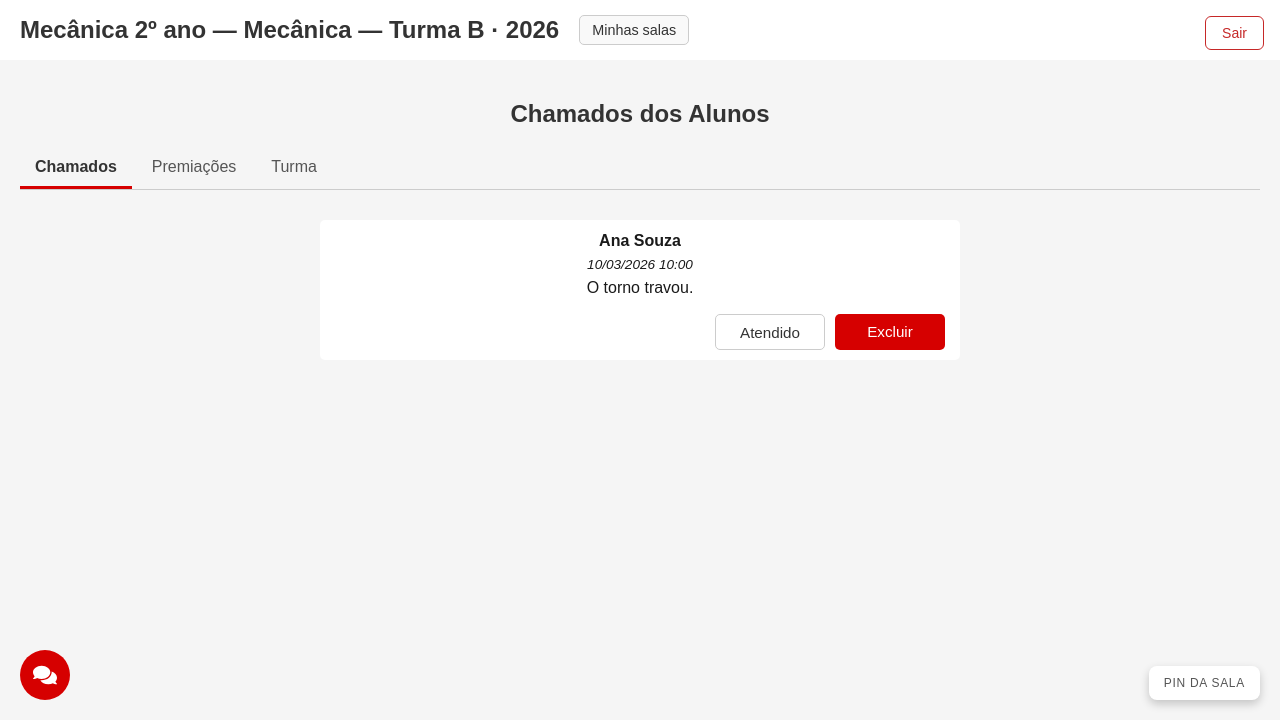
Test case: Sala — o painel da turma (AC-SALA-09) › não oferece remover o próprio professor da sala
Click the tab "Turma" at [294, 168], box [256,148,332,189]
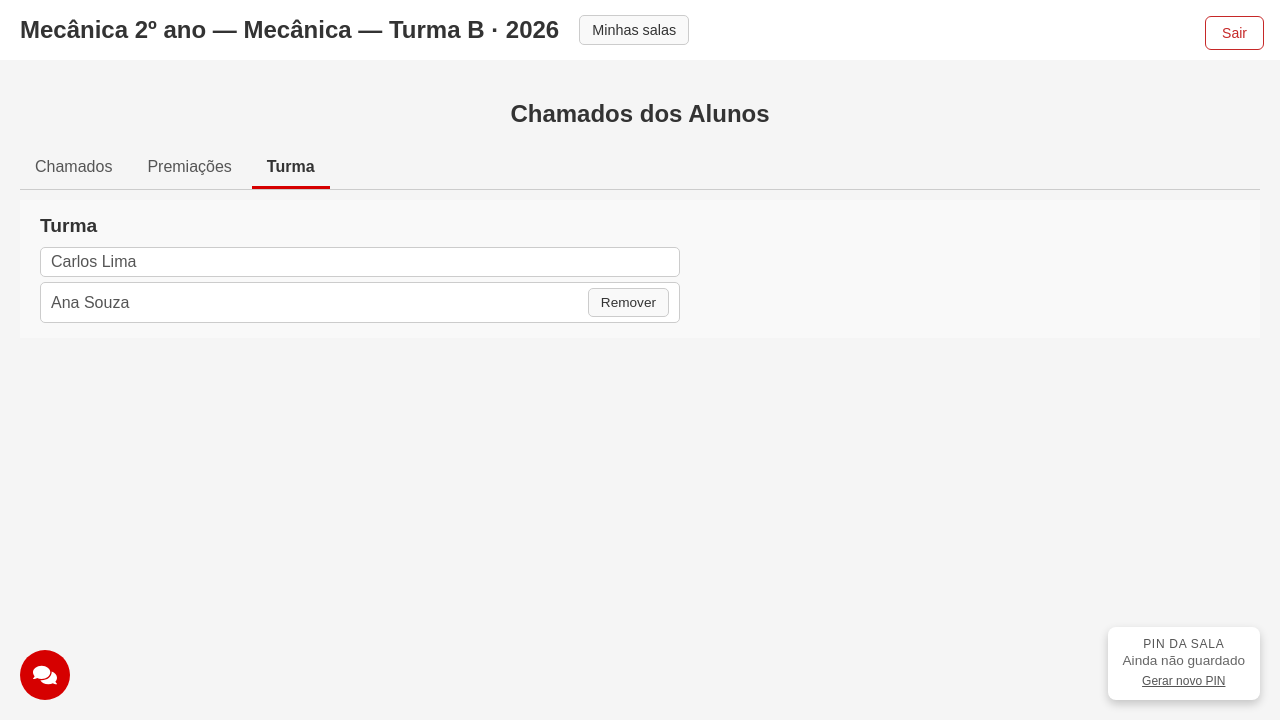
Expected: the text "Carlos Lima" is shown, [51,253,136,271]
